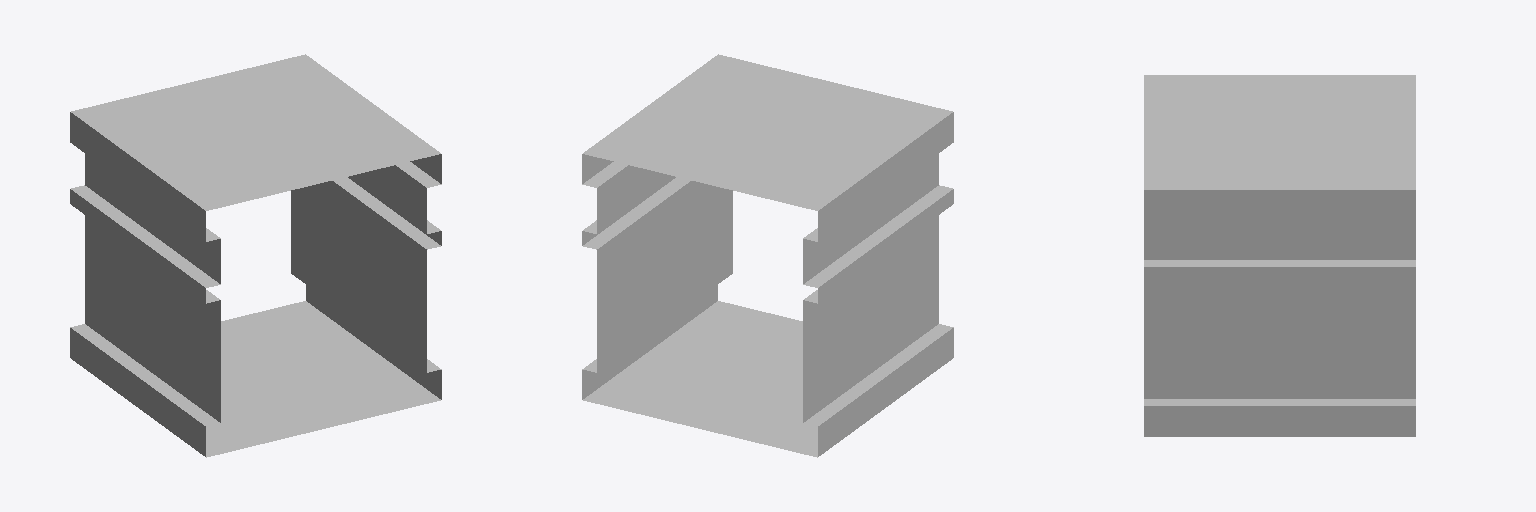
The model's file is line_edge.obj.
3 views of the same model, side by side, from view 1: azimuth 30°, elevation 25°; view 2: azimuth 150°, elevation 25°; view 3: azimuth 270°, elevation 25° (orthographic).
Bounding box in the file's own units: 1 × 1 × 1.